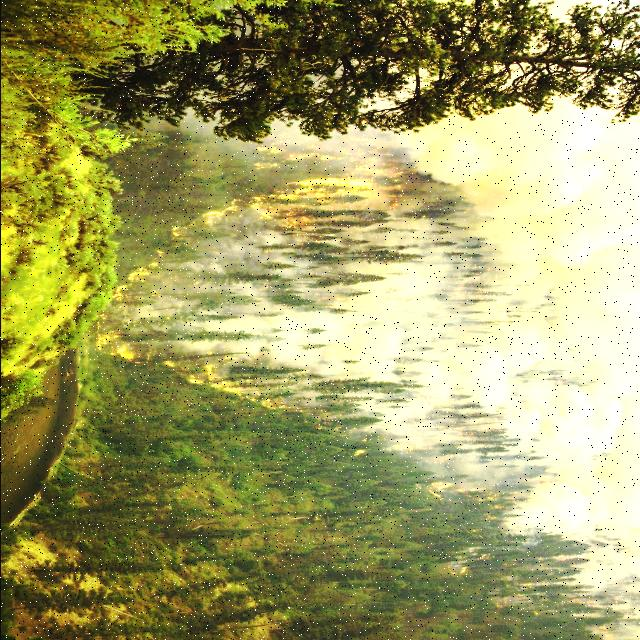api: (237, 132, 397, 236), (100, 200, 242, 306), (174, 345, 316, 427), (90, 325, 150, 373)
asap: (76, 1, 640, 640)
